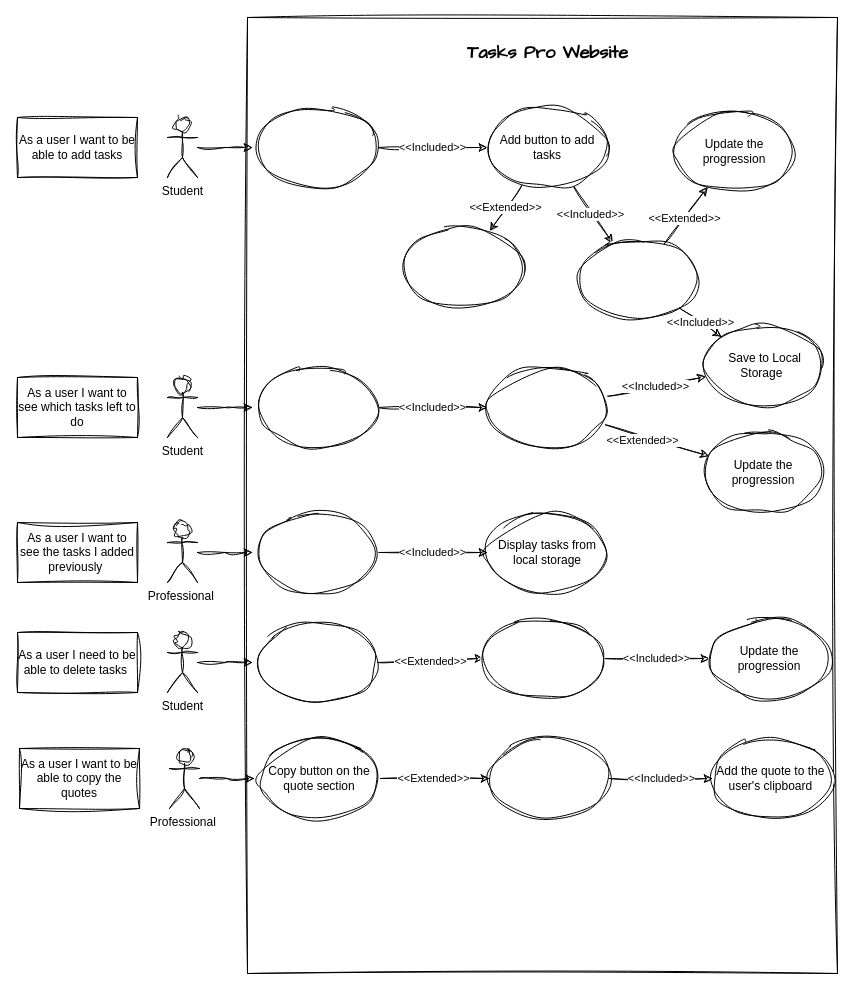
This 855x991 diagram has some shape labels left out. Each missing label, with the centre of its shape:
Add it to the tasks list: the point at 637,279
Completed tasks are marked as done: the point at 547,407
Delete button with all the task: the point at 317,662
Delete the task if pressed: the point at 543,658
If Input box empty show a warning message: the point at 464,267
Input box to type in task: the point at 317,147
Load Index Page: the point at 317,552
tasks listed in a dashboard: the point at 317,407
When pressed copy the quote and the author name: the point at 549,778
